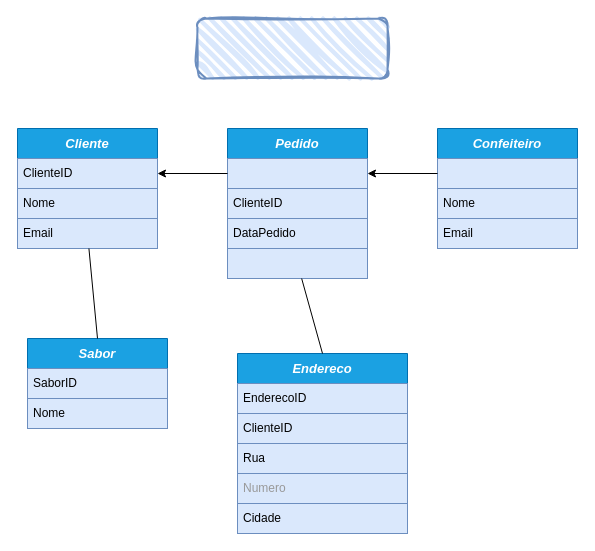
Image size: 595x551. Some labels were removed from this diagram. The centre of each missing label's shape, as x and y in pixels:
"Aplicativo Doce Delicia CupCaker's" belongs at (292,48).
"ConfeiteiroID" belongs at (507,173).
"PedidoID" belongs at (297,173).
"Status" belongs at (297,263).
